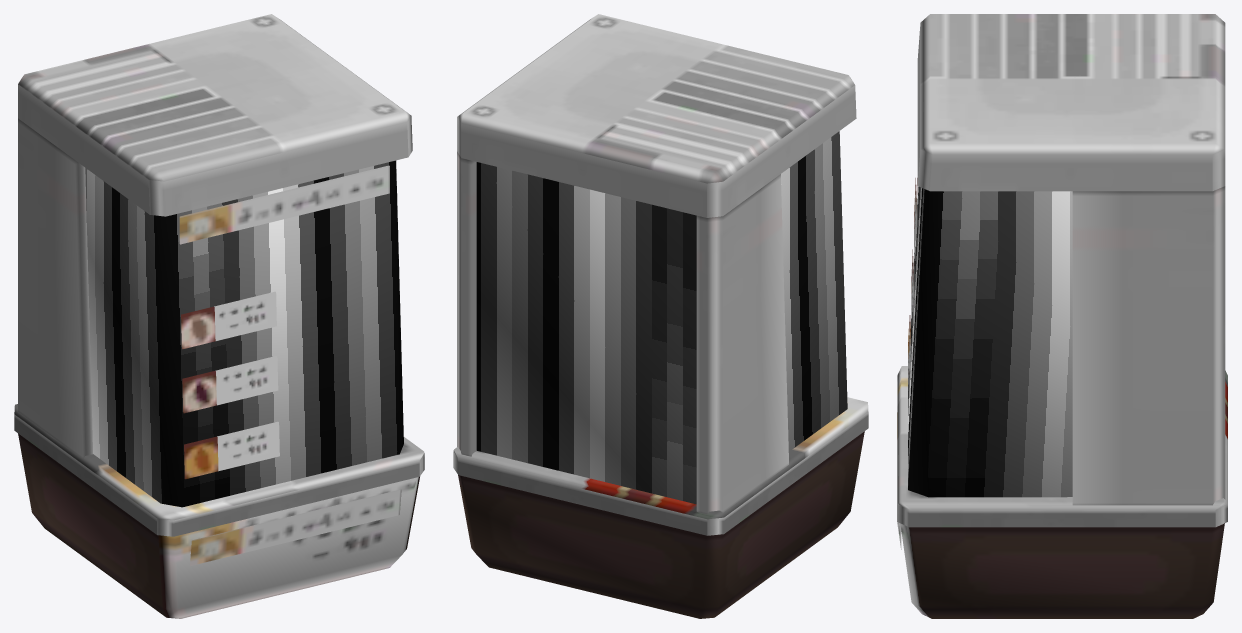
The model's file is int_oth_meatbun.dae.
The picture shows the model from 3 angles, left to right: view 1: azimuth 30°, elevation 25°; view 2: azimuth 150°, elevation 25°; view 3: azimuth 270°, elevation 25°; orthographic projection. The views are drawn at different scales.
Visible parts, largest first — view 1: int_oth_meatbun; view 2: int_oth_meatbun; view 3: int_oth_meatbun.
Part boxes in pixels (left/top/right/bottom): int_oth_meatbun: left=14, top=14, right=424, bottom=618; int_oth_meatbun: left=453, top=14, right=868, bottom=618; int_oth_meatbun: left=897, top=14, right=1227, bottom=618.
Size of the model in its own units: 21.13 by 33.89 by 21.14.
Materials: 3 (3 with a texture image).
